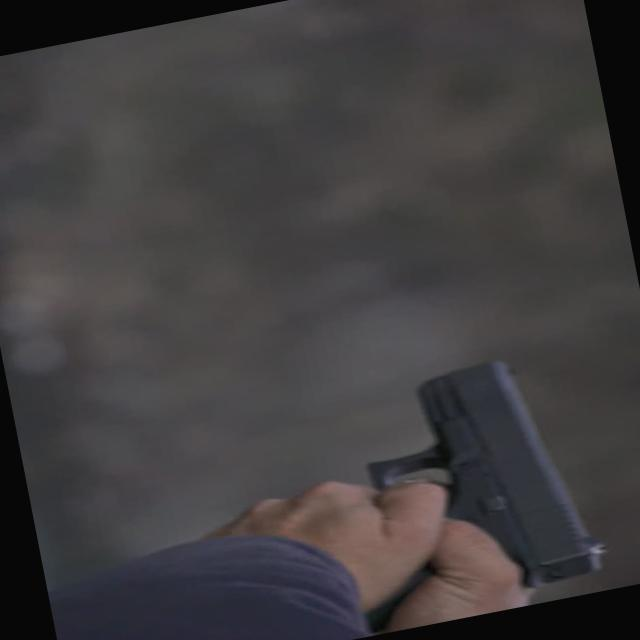handgun: (346, 340, 612, 616)
